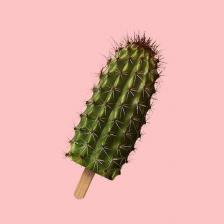green: (66, 34, 161, 199)
